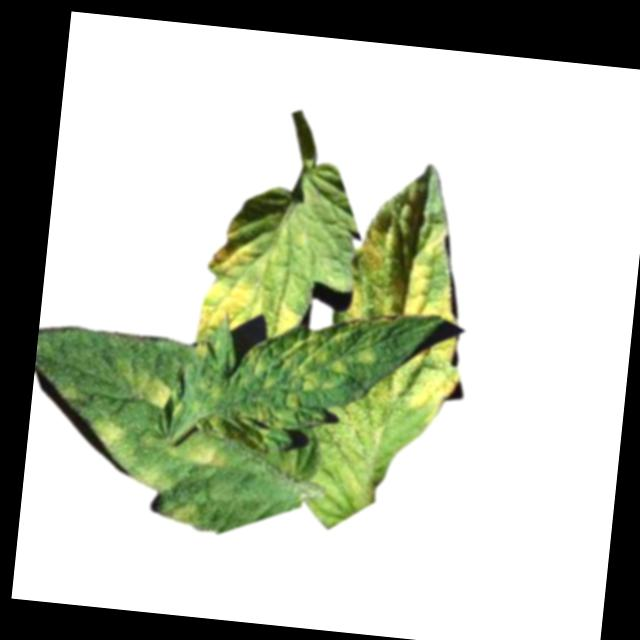Leaf_Mold: (233, 299, 383, 433), (188, 214, 310, 351), (342, 205, 464, 324), (382, 323, 465, 425), (123, 364, 173, 413), (171, 435, 225, 472), (83, 414, 128, 453), (159, 492, 201, 526)
